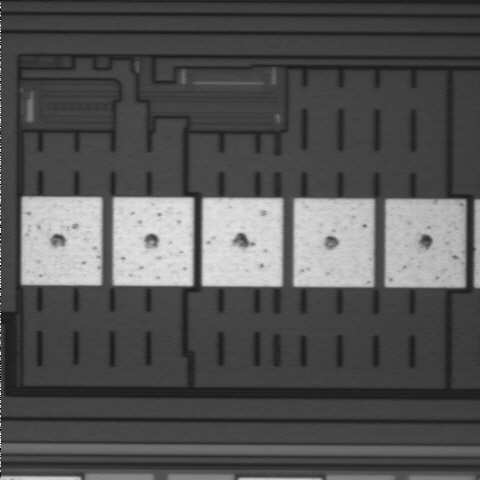pad: (22, 197, 102, 285), (113, 198, 193, 286), (202, 198, 282, 286), (294, 199, 374, 287), (386, 200, 464, 287)
